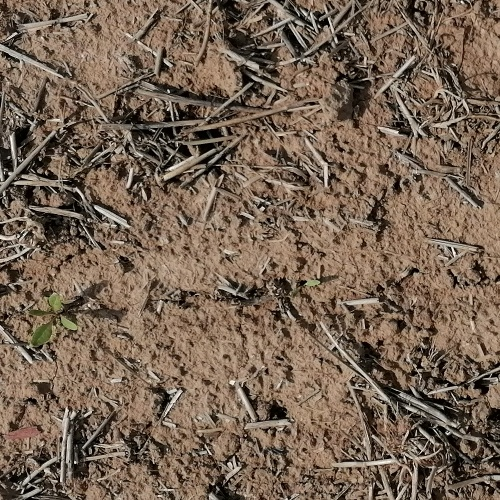beet: (29, 293, 77, 349)
